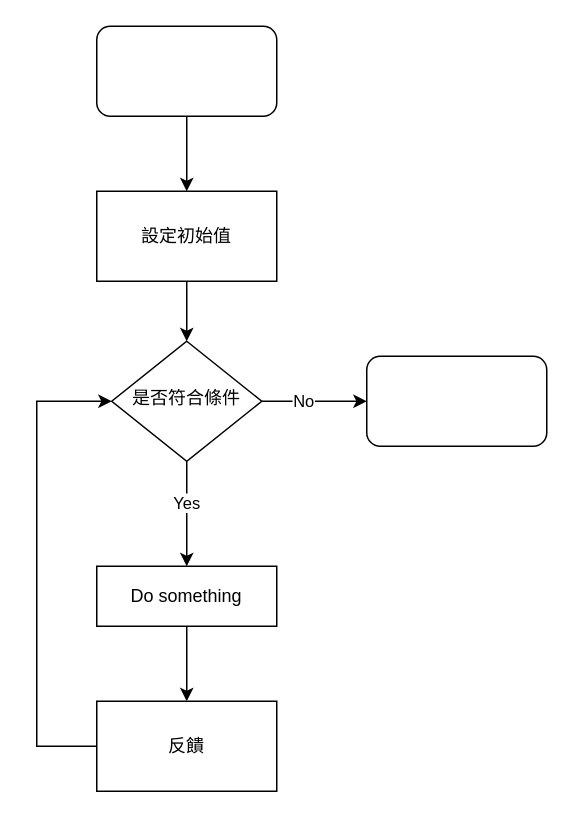
Image size: 573x818. Some labels were removed from this diagram. The centre of each missing label's shape, as x and y in pixels:
結束: [456,400]
開始: [186,70]
